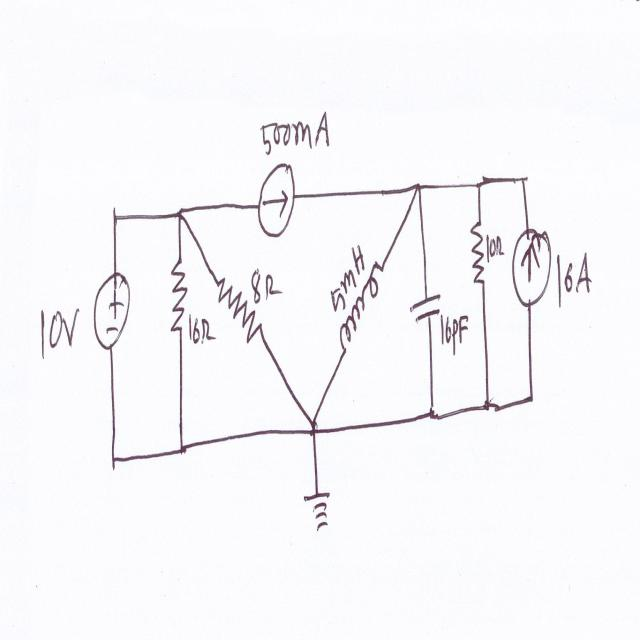capacitor: (410, 288, 441, 328)
current_source: (256, 155, 302, 245), (511, 223, 552, 316)
ground: (301, 485, 338, 543)
inductor: (338, 256, 389, 353)
resistor: (217, 271, 260, 350), (170, 248, 188, 338), (470, 219, 488, 293)
voltage_source: (90, 271, 134, 355)
